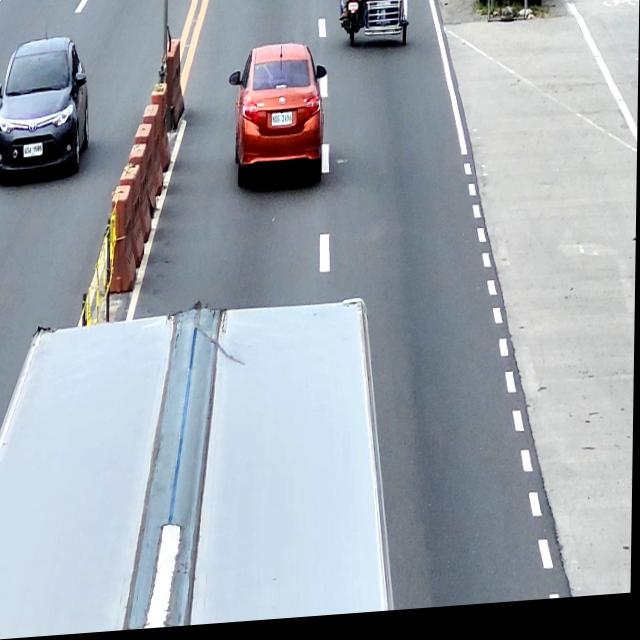Car: (228, 44, 328, 193), (0, 35, 92, 182)
License-Plate: (23, 143, 43, 159), (272, 116, 292, 131), (349, 8, 359, 16)
Tricycle: (343, 0, 410, 54)
Truck: (0, 299, 397, 640)
